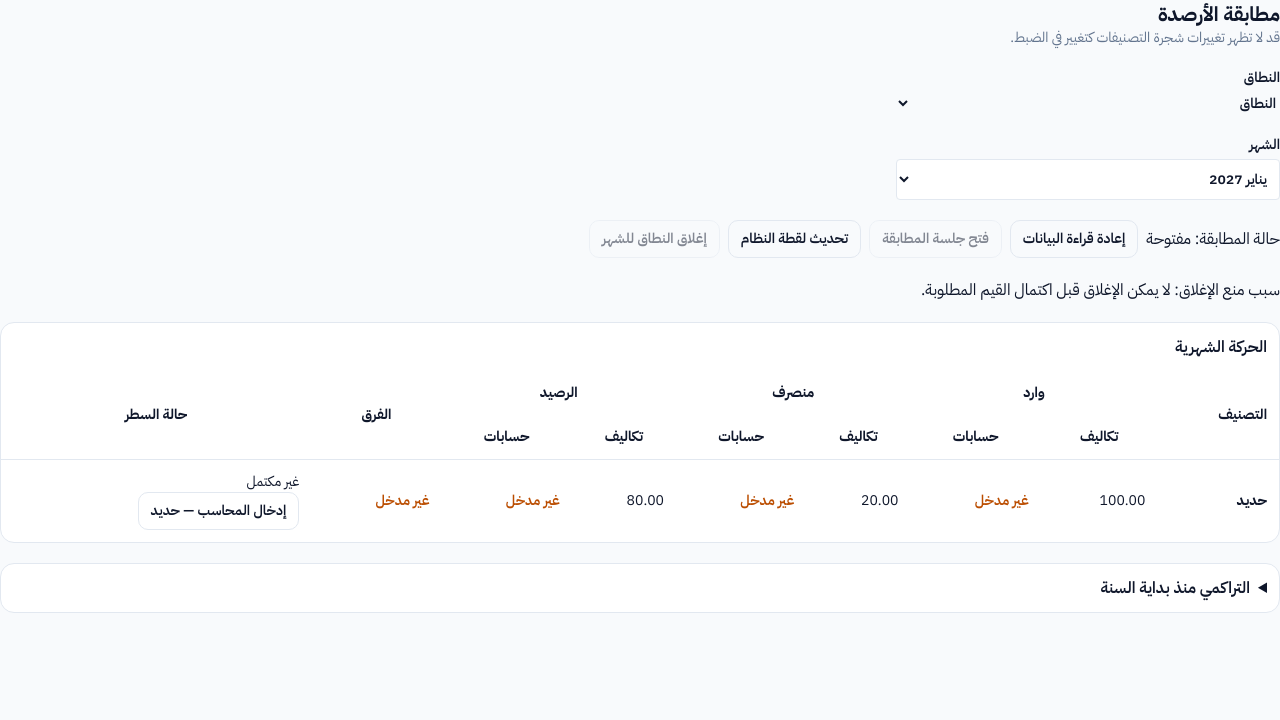
Test: v3 reconciliation › retains the in-memory draft and warns when both browser stores fail
The width and height of the screenshot is (1280, 720).
Click the button "إدخال المحاسب — حديد" at [218, 511], box [138,492,299,530]
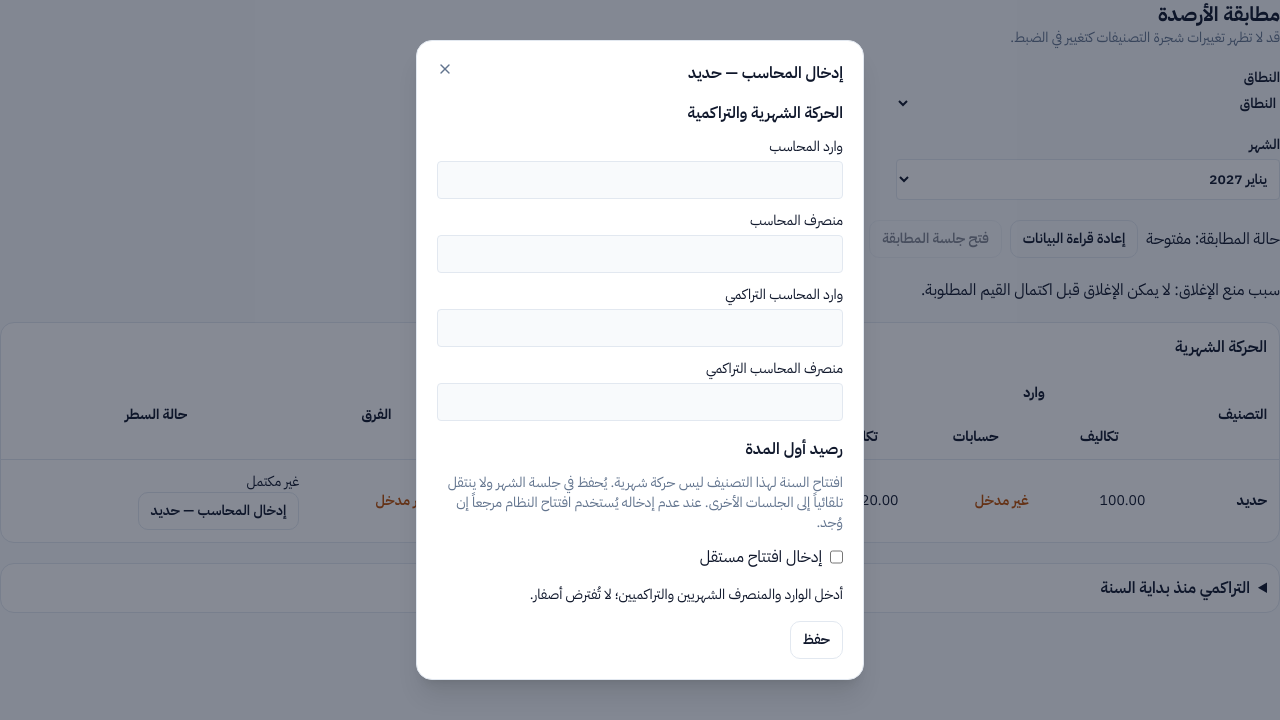
Type "321.45" into the field labelled "وارد المحاسب" at [640, 180], box [437,161,843,199]
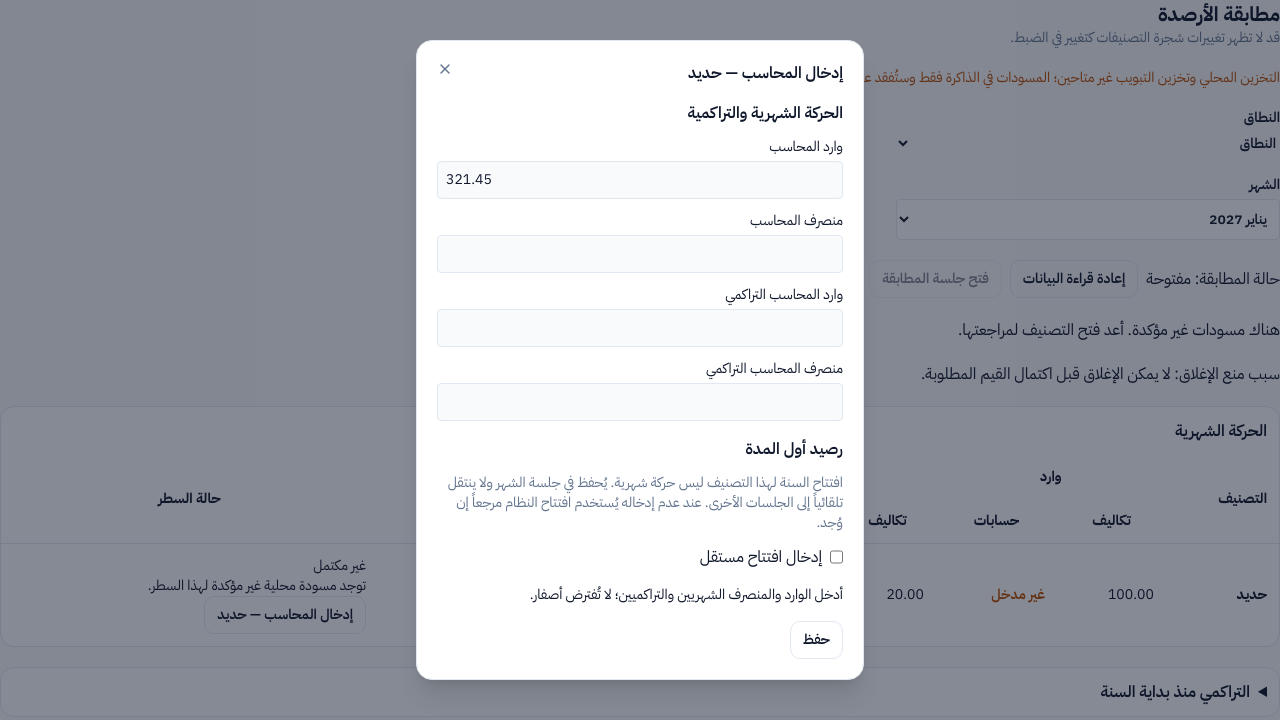
expect the text "المسودات في الذاكرة فقط" is shown: met, box [632,67,1279,88]
Click the button named "إلغاء" at [445, 69], box [437,61,453,77]
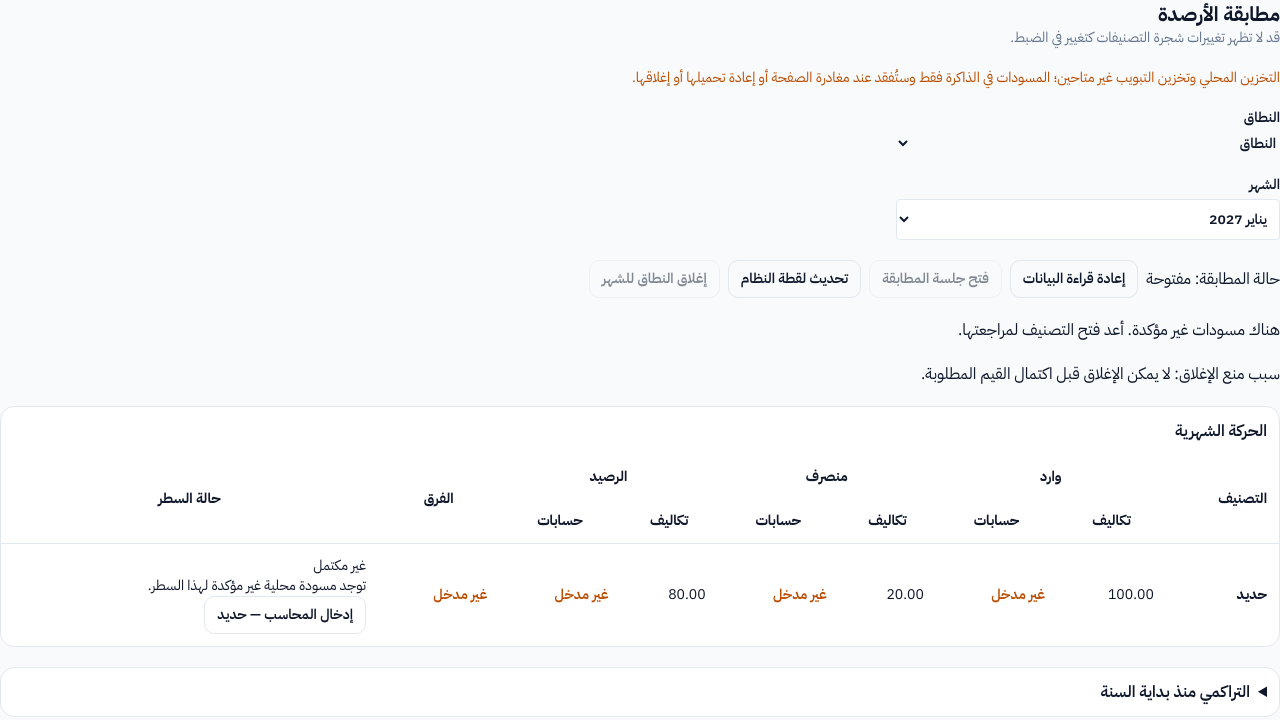
Click the button "إدخال المحاسب — حديد" at [285, 615], box [204,596,366,634]
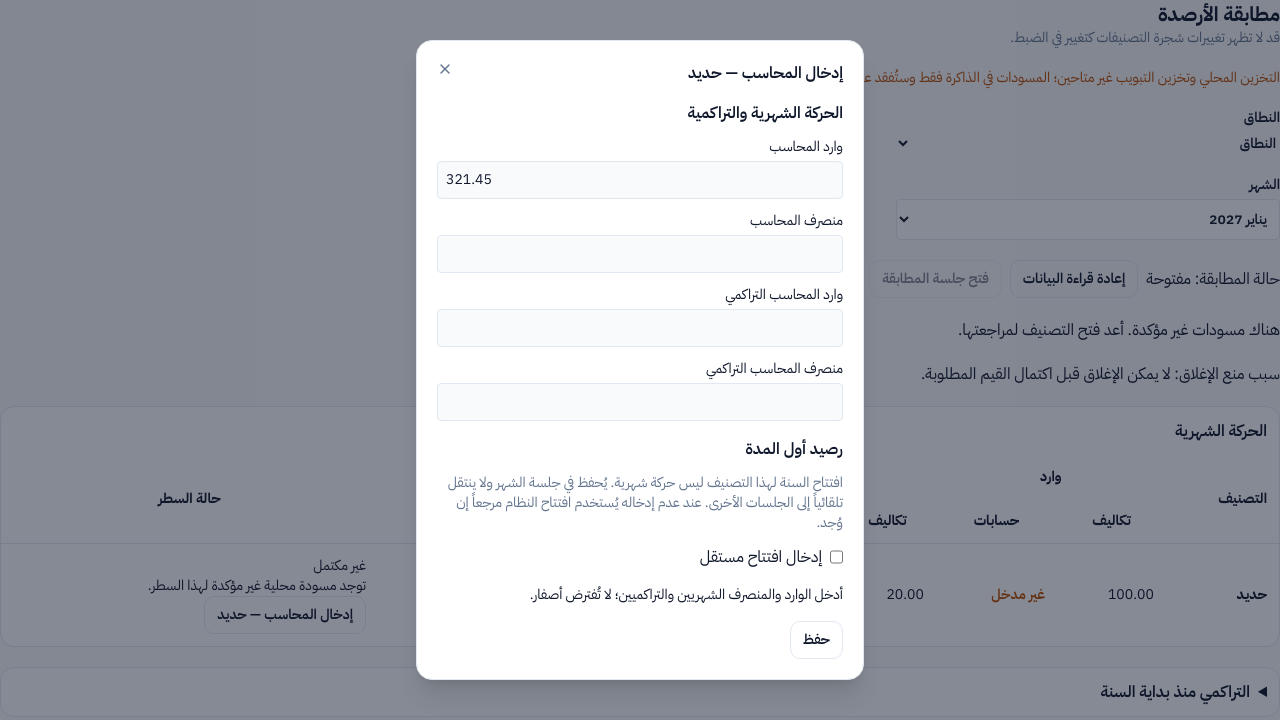
expect the field labelled "وارد المحاسب" holds "321.45": met, box [437,161,843,199]
